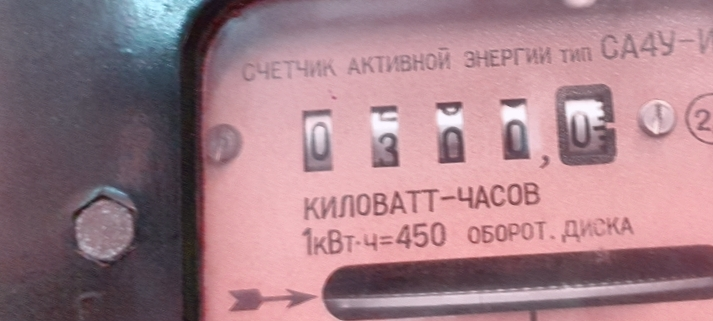0: (501, 114, 530, 159), (565, 105, 593, 150), (306, 115, 332, 163), (438, 121, 464, 164)
3: (374, 127, 399, 168)
screen: (277, 62, 638, 202)
